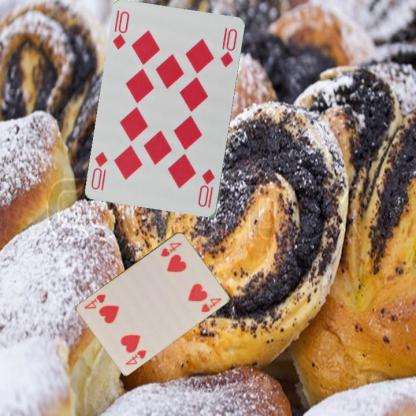10d: (195, 166, 217, 210), (110, 8, 132, 51)
4h: (158, 239, 183, 258), (122, 348, 148, 366)
